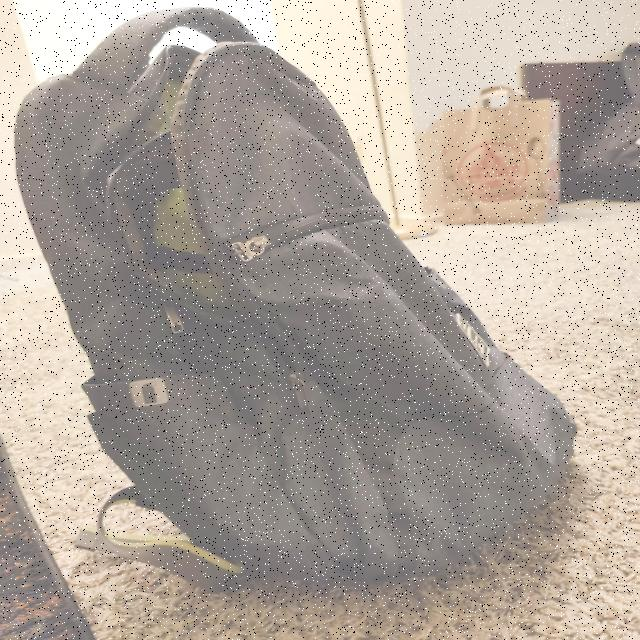bag: (10, 8, 572, 558)
